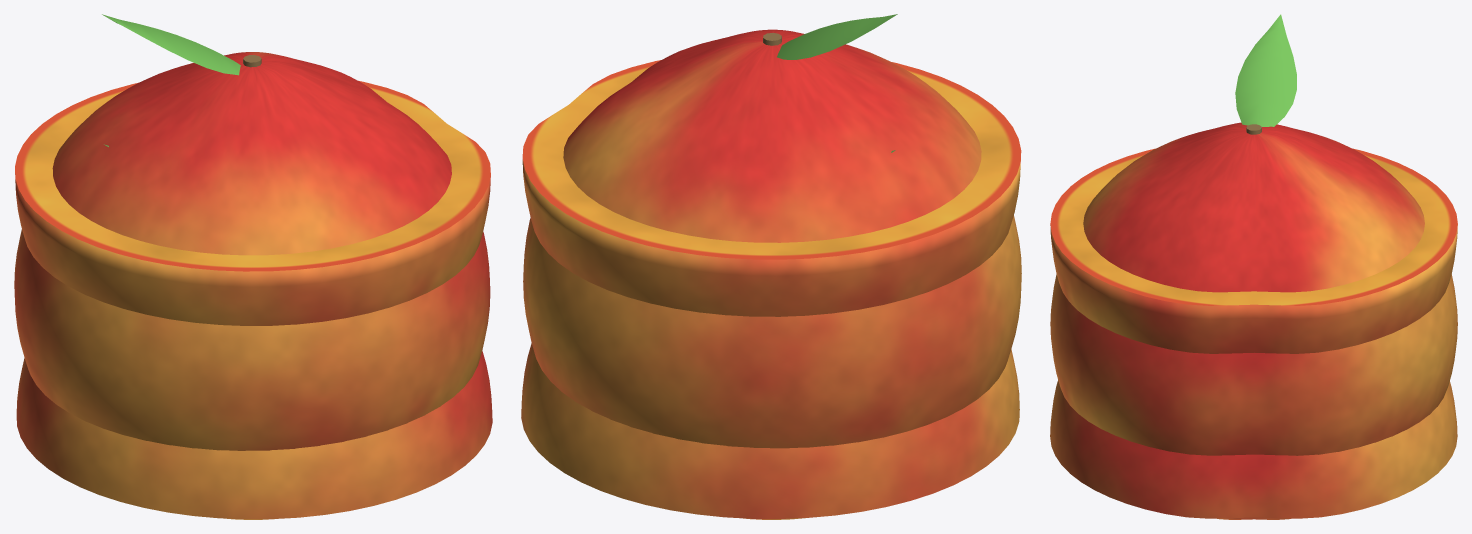
Rendered from peach.glb.
The picture shows the model from 3 angles, left to right: view 1: azimuth 30°, elevation 25°; view 2: azimuth 150°, elevation 25°; view 3: azimuth 270°, elevation 25°; orthographic projection. The views are drawn at different scales.
Parts seen in each view (by area): view 1: whole, bot, top; view 2: whole, bot, top; view 3: whole, bot, top.
Boxes of the visible parts, x1=… form: whole: x1=14, y1=14, x2=490, y2=519; bot: x1=15, y1=80, x2=490, y2=325; top: x1=16, y1=144, x2=492, y2=519; whole: x1=523, y1=14, x2=1021, y2=519; bot: x1=522, y1=60, x2=1021, y2=316; top: x1=521, y1=150, x2=1019, y2=518; whole: x1=1050, y1=14, x2=1457, y2=519; bot: x1=1050, y1=148, x2=1457, y2=353; top: x1=1050, y1=380, x2=1457, y2=518.
Size of the model in its own units: 0.6089 by 0.7154 by 0.6205.
Materials: 4 (2 with a texture image).
